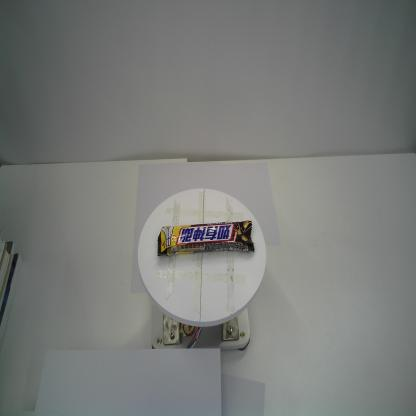Chocolate: (157, 220, 255, 257)
